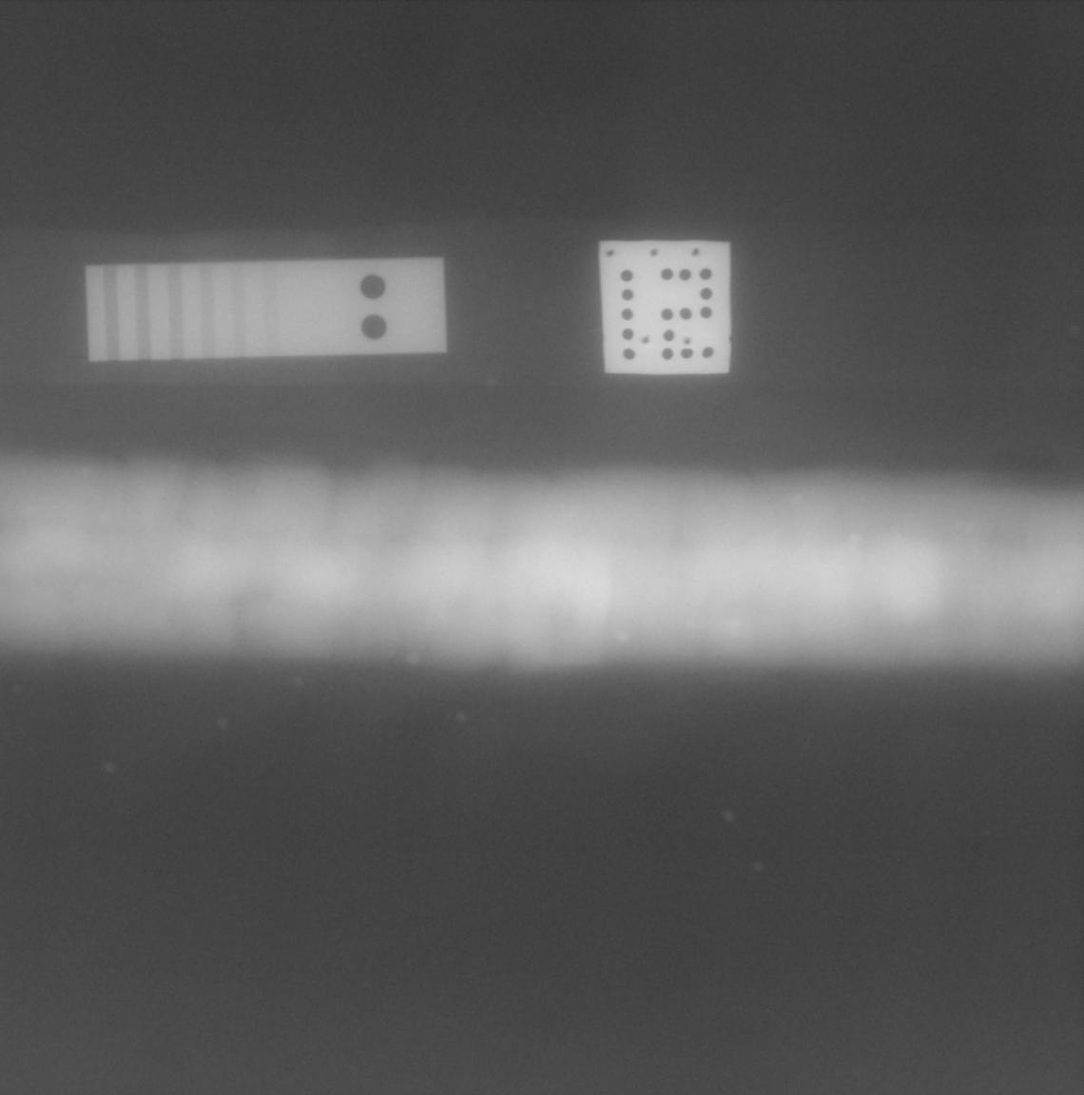Reference Standard 2: (84, 256, 448, 363)
